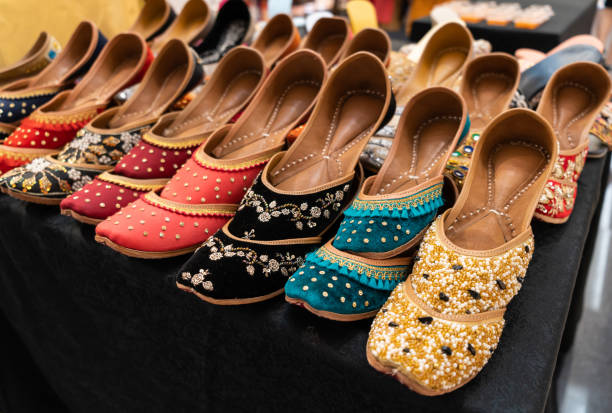Footwear: (365, 107, 561, 402)
